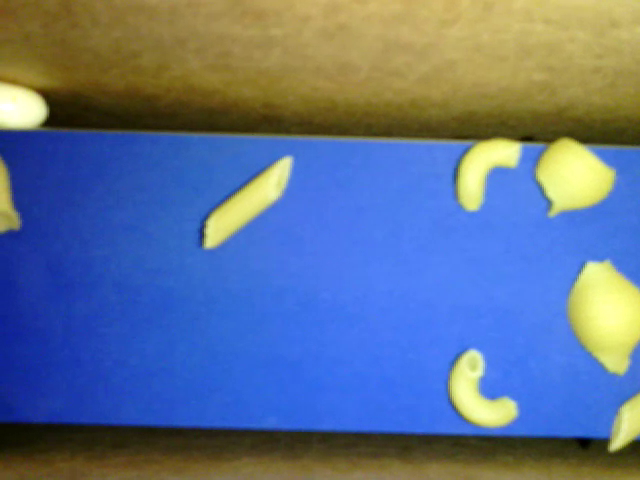elbow: (449, 349, 518, 428), (456, 134, 520, 211)
penne: (202, 154, 293, 250), (609, 392, 639, 453)
shell: (568, 257, 639, 375), (534, 134, 615, 217)
